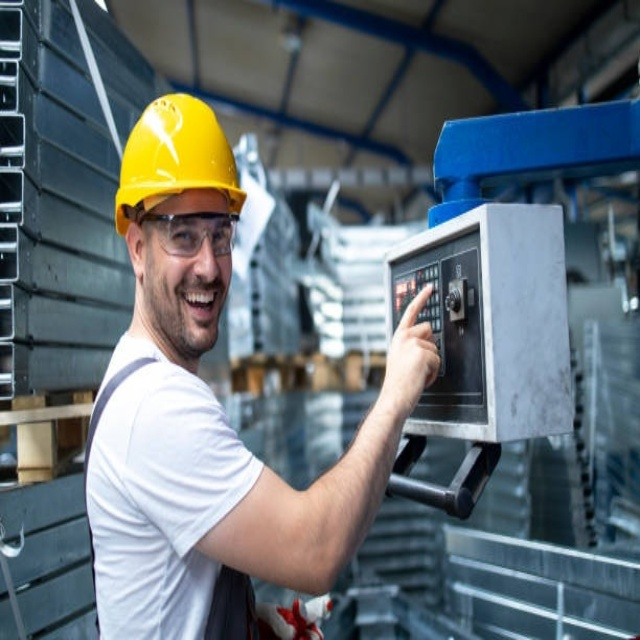Gafas: (137, 212, 240, 258)
Sin_guantes: (384, 281, 443, 404)
Sin_mascara: (168, 278, 228, 334)
